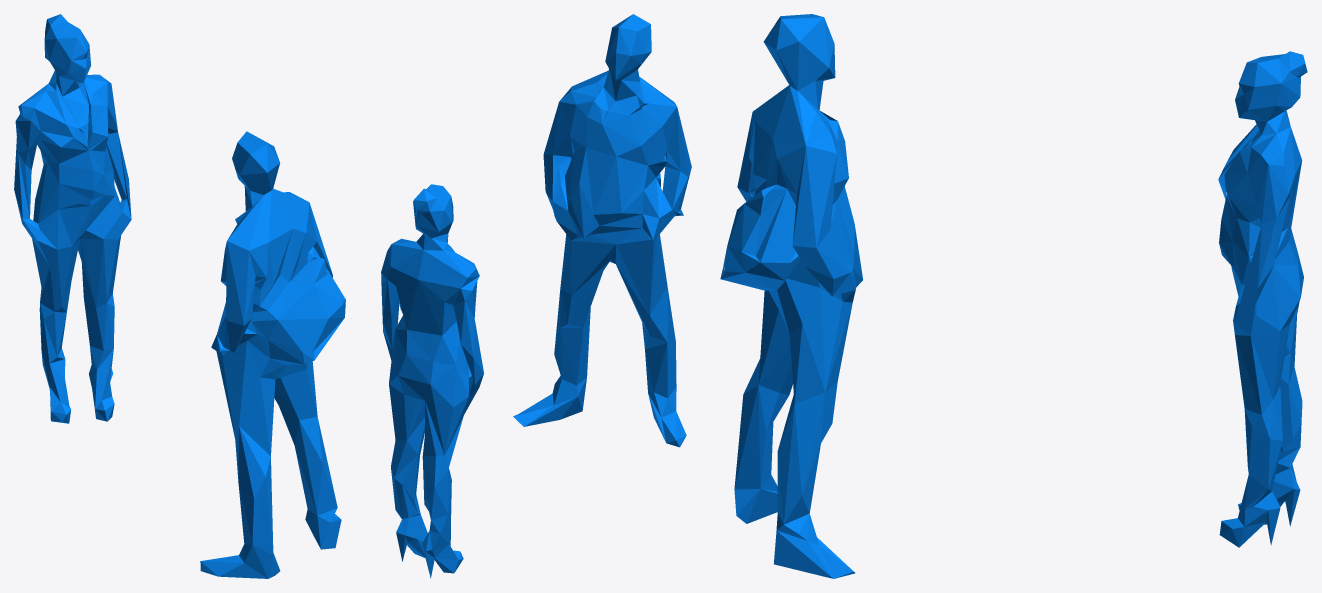
File: personaje.glb
3 renders of one model, left to right at view 1: azimuth 30°, elevation 25°; view 2: azimuth 150°, elevation 25°; view 3: azimuth 270°, elevation 25°, orthographic. The views are drawn at different scales.
Parts seen in each view (by area): view 1: 225_person__0, 209_person__0; view 2: 225_person__0, 209_person__0; view 3: 225_person__0, 209_person__0.
Part boxes in pixels (<box>): 225_person__0: <box>200,131,345,578</box>; 209_person__0: <box>14,14,131,423</box>; 225_person__0: <box>513,14,691,447</box>; 209_person__0: <box>381,184,483,578</box>; 225_person__0: <box>720,14,862,578</box>; 209_person__0: <box>1218,51,1307,547</box>.
Bounding box in the file's own units: 3.88 × 10.22 × 10.66.
